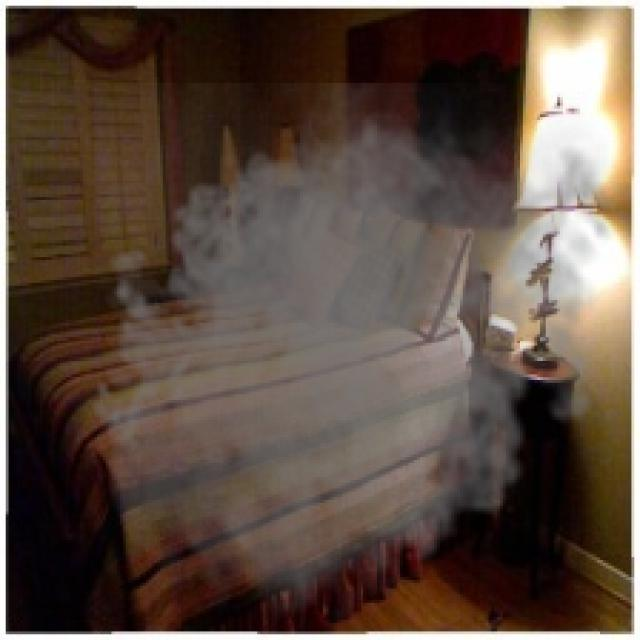smoke: (83, 83, 628, 637)
